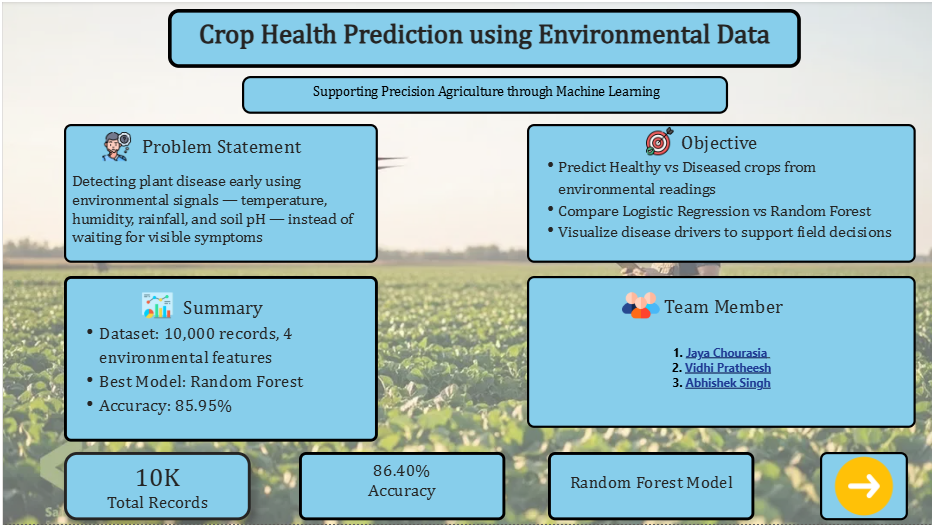

The page's visual inventory and layout, read from the dashboard file:
{"tool":"powerbi","page":{"name":"intro","canvas":[1280,720],"ordinal":0},"visuals":[{"type":"textbox","box":[227.1,11,871.2,81.2],"z":0},{"type":"textbox","box":[328.9,103.2,668.9,52.3],"z":1000},{"type":"textbox","box":[84,378.5,432.2,228.5],"z":2000},{"type":"textbox","box":[721.2,169.3,535.4,191.3],"z":3000},{"type":"textbox","box":[84,169.3,432.2,191.3],"z":4000},{"type":"textbox","box":[721.2,378.5,535.4,209.2],"z":5000},{"type":"image","box":[1124.5,620.7,121.1,93.6],"z":6000},{"type":"advanceCardE03760C5AB684758B56AA29F9E6C257B","fields":{"mainMeasure":["plant_disease_powerbi_export.Total Records"]},"box":[84,620.7,257.4,93.6],"z":7000},{"type":"textbox","box":[407.4,620.7,283.5,93.6],"z":7001},{"type":"textbox","box":[750.1,620.7,283.5,93.6],"z":7002},{"type":"image","box":[878.1,173.4,52.3,38.5],"z":7003},{"type":"image","box":[852,390.9,52.3,56.4],"z":7004},{"type":"image","box":[136.3,396.4,152.8,45.4],"z":7005},{"type":"image","box":[136.3,173.4,39.9,53.7],"z":7006}]}

Visuals, with their boxes in screenshot pixels (x1, y1, x2, y2), scaled from the page's 1280x720 canvas onto the 934x527 screenshot:
textbox: locate(166, 8, 801, 67)
textbox: locate(240, 76, 728, 114)
textbox: locate(61, 277, 377, 444)
textbox: locate(526, 124, 917, 264)
textbox: locate(61, 124, 377, 264)
textbox: locate(526, 277, 917, 430)
image: locate(821, 454, 909, 523)
advanceCardE03760C5AB684758B56AA29F9E6C257B - plant_disease_powerbi_export.Total Records: locate(61, 454, 249, 523)
textbox: locate(297, 454, 504, 523)
textbox: locate(547, 454, 754, 523)
image: locate(641, 127, 679, 155)
image: locate(622, 286, 660, 327)
image: locate(99, 290, 211, 323)
image: locate(99, 127, 129, 166)
